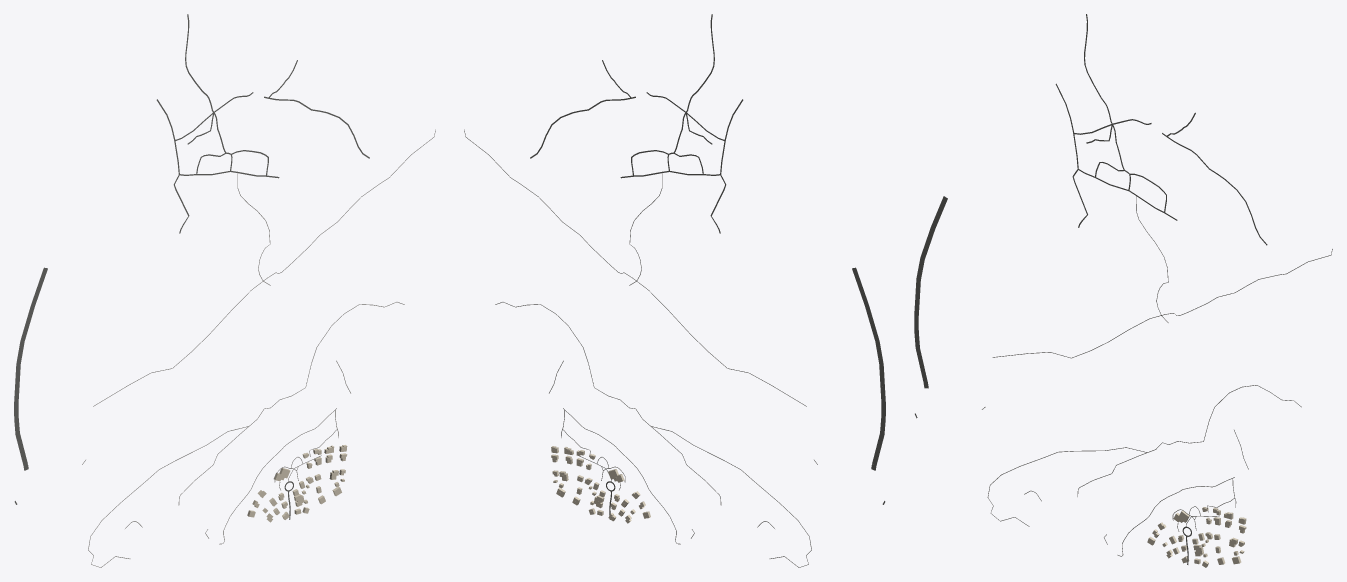
Rendered from historic-palestine-08_20_3502_3144.glb.
The picture shows the model from 3 angles, left to right: view 1: azimuth 30°, elevation 25°; view 2: azimuth 150°, elevation 25°; view 3: azimuth 330°, elevation 25°; orthographic projection.
Parts seen in each view (by area): view 1: Road 60; view 2: Road 60; view 3: Road 60.
Boxes of the visible parts, x1,y1,x2,y2 form: Road 60: (14,267,47,465); Road 60: (852,267,885,465); Road 60: (914,196,947,382).
Size of the model in its own units: 1108 by 1352 by 8.7.
